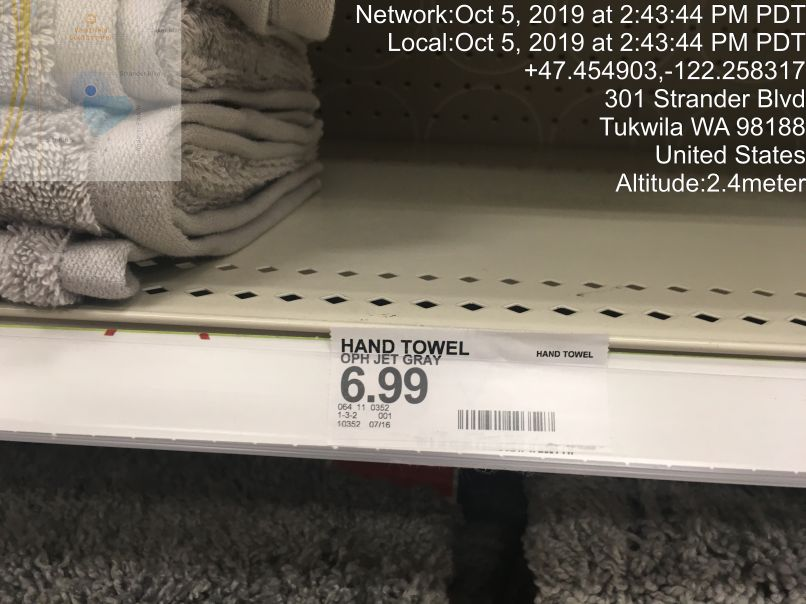Hand Towel: (7, 6, 328, 300)
Label: (319, 314, 619, 467)
Location: (593, 82, 806, 171)
Time: (348, 1, 806, 57)
Void: (330, 74, 770, 298)
